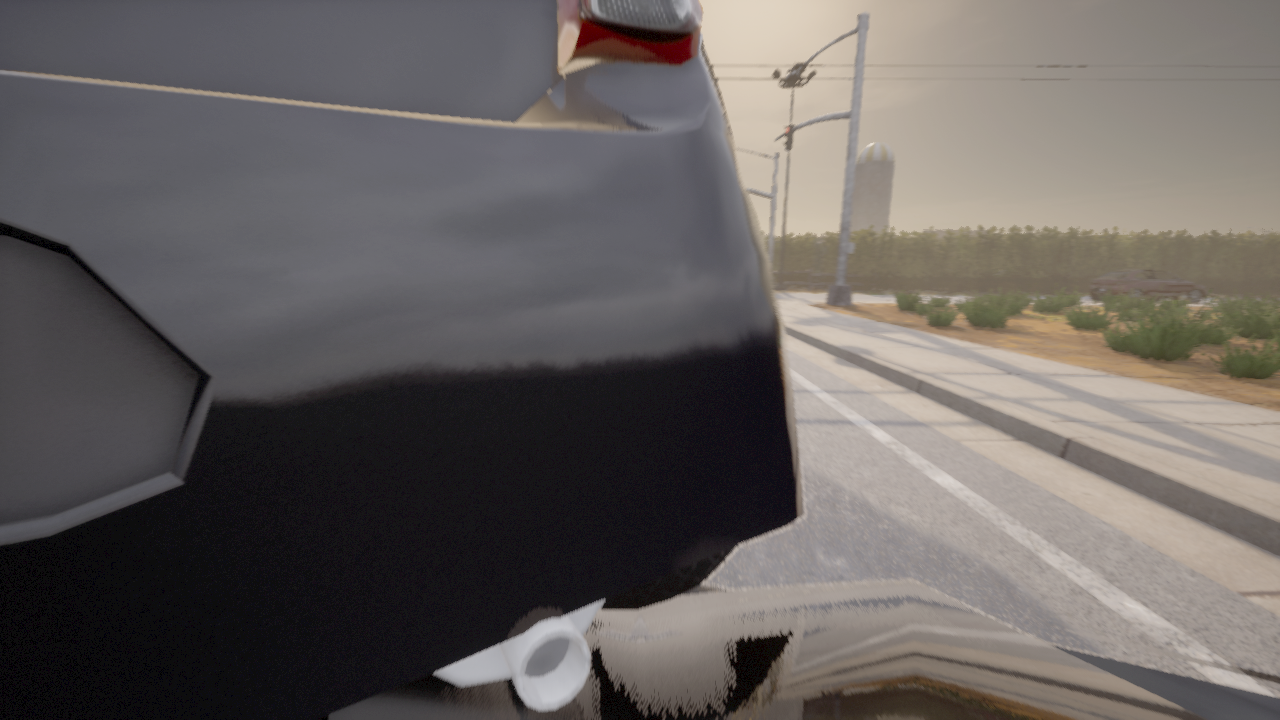cyclist: (316, 580, 1279, 719), (1089, 269, 1207, 302)
